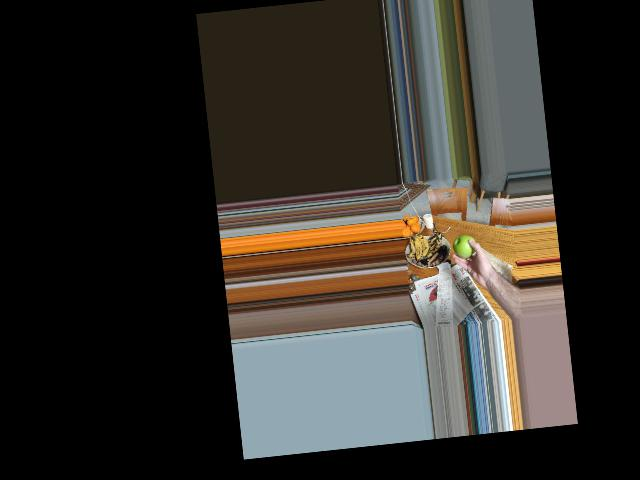apple: (452, 233, 478, 260)
